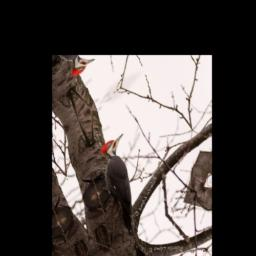Woodpecker: (91, 130, 156, 240)
